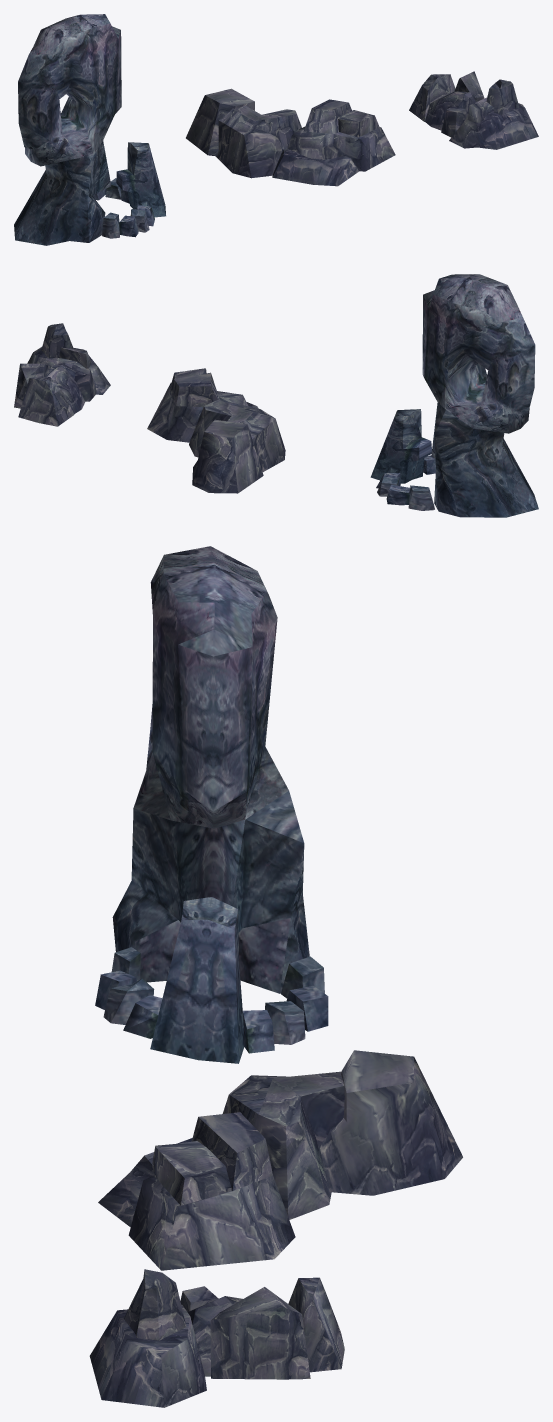
The model's file is DZMG_YHY_HuaTan.FBX.
The picture shows the model from 3 angles, top to bottom: view 1: azimuth 30°, elevation 25°; view 2: azimuth 150°, elevation 25°; view 3: azimuth 270°, elevation 25°; orthographic projection. The views are drawn at different scales.
Parts seen in each view (by area): view 1: DZMG_YHY_HuaTan01, DZMG_YHY_HuaTan02, DZMG_YHY_HuaTan03; view 2: DZMG_YHY_HuaTan01, DZMG_YHY_HuaTan02, DZMG_YHY_HuaTan03; view 3: DZMG_YHY_HuaTan01, DZMG_YHY_HuaTan02, DZMG_YHY_HuaTan03.
Boxes of the visible parts, <box> form: DZMG_YHY_HuaTan01: <box>14,14,165,245</box>; DZMG_YHY_HuaTan02: <box>186,88,395,186</box>; DZMG_YHY_HuaTan03: <box>409,71,538,149</box>; DZMG_YHY_HuaTan01: <box>370,274,538,517</box>; DZMG_YHY_HuaTan02: <box>147,368,285,493</box>; DZMG_YHY_HuaTan03: <box>14,323,110,426</box>; DZMG_YHY_HuaTan01: <box>95,546,328,1063</box>; DZMG_YHY_HuaTan02: <box>98,1050,462,1270</box>; DZMG_YHY_HuaTan03: <box>89,1269,344,1407</box>.
Bounding box in the file's own units: 3934 × 1537 × 1256.
